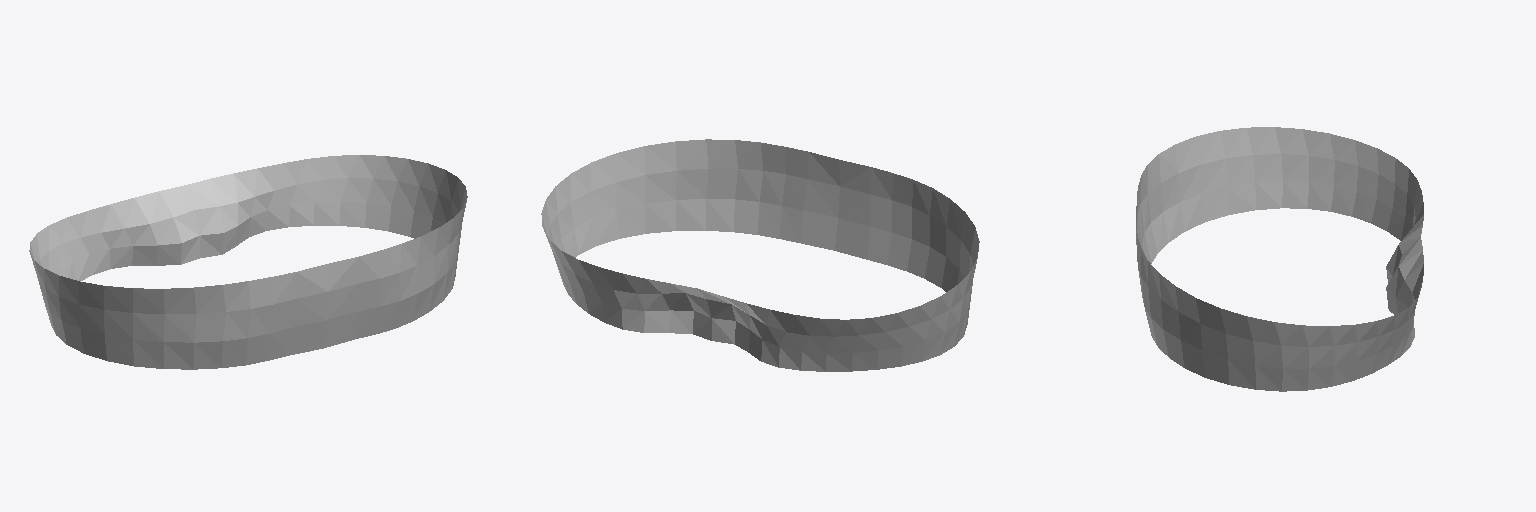
File: Chest.obj
3 views of the same model, side by side, from view 1: azimuth 30°, elevation 25°; view 2: azimuth 150°, elevation 25°; view 3: azimuth 270°, elevation 25° (orthographic).
Visible parts, largest first — view 1: polySurface12 polySurface10 polySurface9 polySurface2 polySurfac; view 2: polySurface12 polySurface10 polySurface9 polySurface2 polySurfac; view 3: polySurface12 polySurface10 polySurface9 polySurface2 polySurfac.
Boxes of the visible parts, x1=… form: polySurface12 polySurface10 polySurface9 polySurface2 polySurfac: x1=29, y1=155, x2=467, y2=369; polySurface12 polySurface10 polySurface9 polySurface2 polySurfac: x1=541, y1=139, x2=979, y2=371; polySurface12 polySurface10 polySurface9 polySurface2 polySurfac: x1=1136, y1=127, x2=1423, y2=391.
Bounding box in the file's own units: 14.23 × 3 × 8.83.